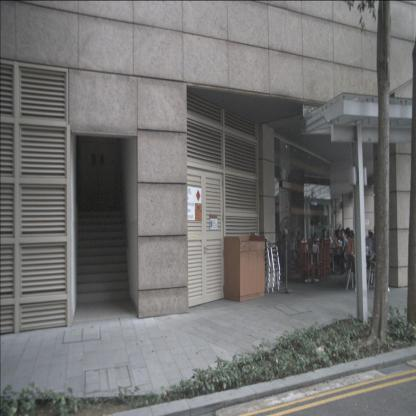human-pedestrian-adult: (333, 228, 347, 274), (320, 228, 332, 274), (334, 228, 349, 261), (364, 231, 376, 271), (323, 228, 334, 268), (344, 226, 354, 260)
